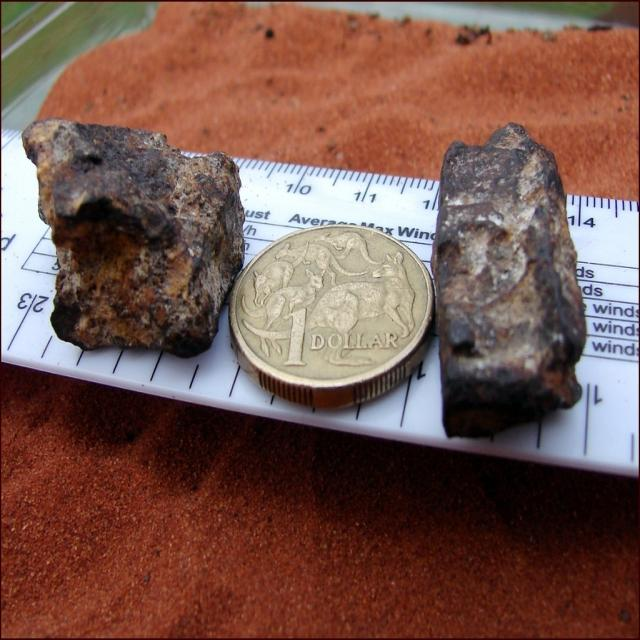Coin: (229, 219, 439, 412)
